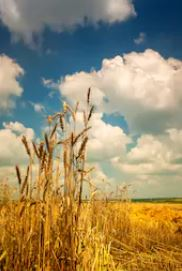Wheat: (22, 141, 76, 260)
